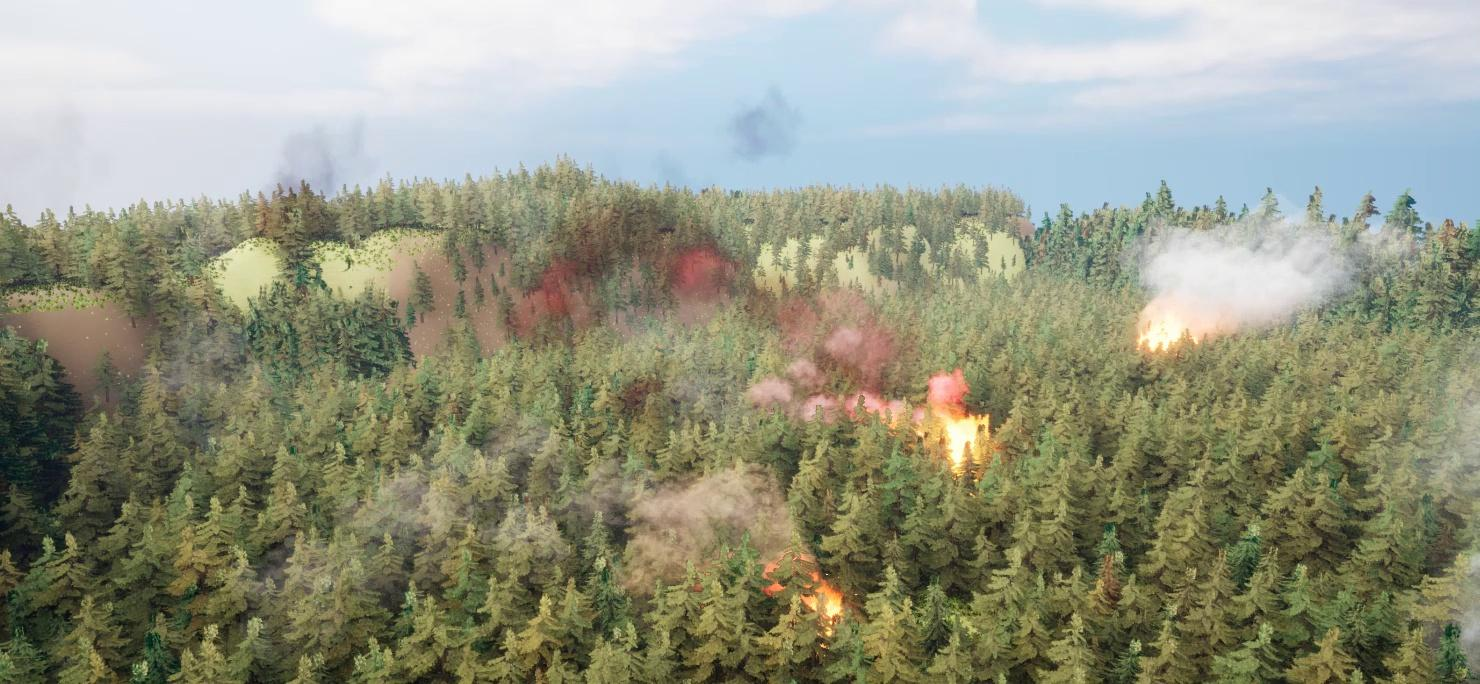fire: (772, 563, 862, 637), (921, 388, 1000, 468), (1136, 311, 1193, 350)
smoke: (1144, 214, 1400, 329), (747, 278, 936, 409), (608, 470, 831, 578)
